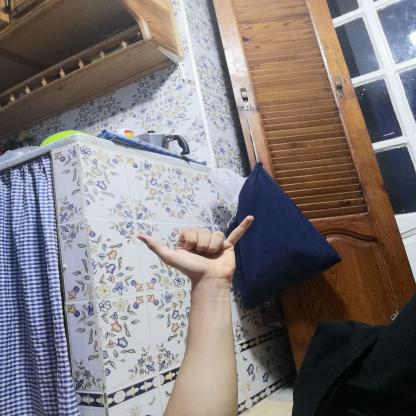YA: (126, 205, 266, 289)
